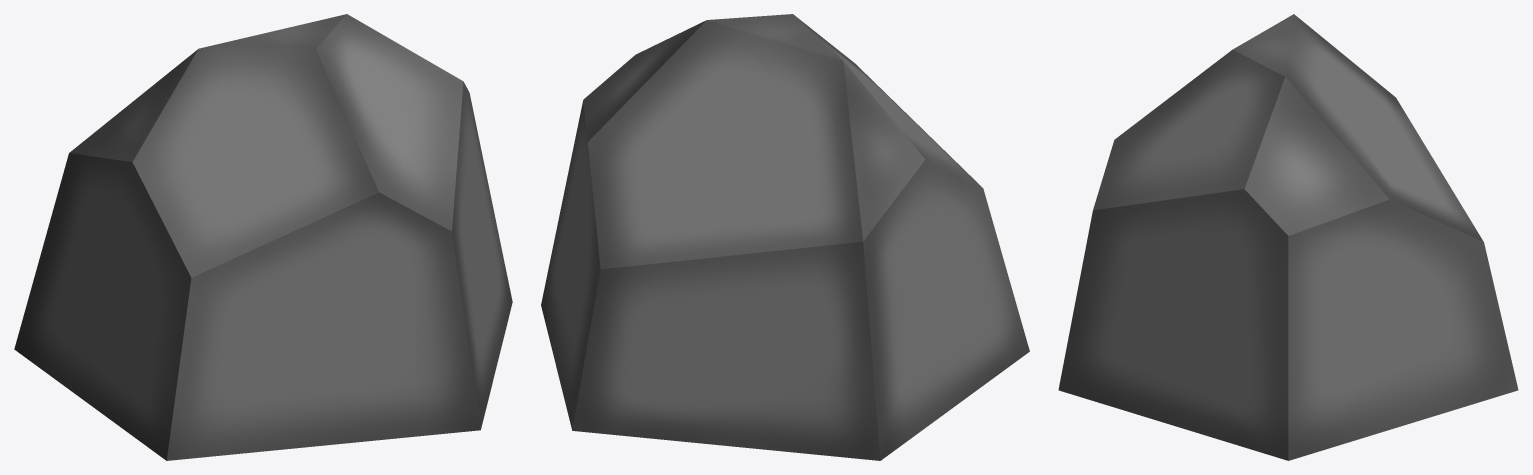
File: IWA.FBX
3 renders of one model, left to right at view 1: azimuth 30°, elevation 25°; view 2: azimuth 150°, elevation 25°; view 3: azimuth 270°, elevation 25°, orthographic. The views are drawn at different scales.
Parts seen in each view (by area): view 1: Cylinder011; view 2: Cylinder011; view 3: Cylinder011.
Part boxes in pixels (bbox=[...]): Cylinder011: bbox=[14, 14, 512, 460]; Cylinder011: bbox=[541, 14, 1029, 460]; Cylinder011: bbox=[1058, 14, 1518, 460].
Bounding box in the file's own units: 111 × 83.25 × 113.
